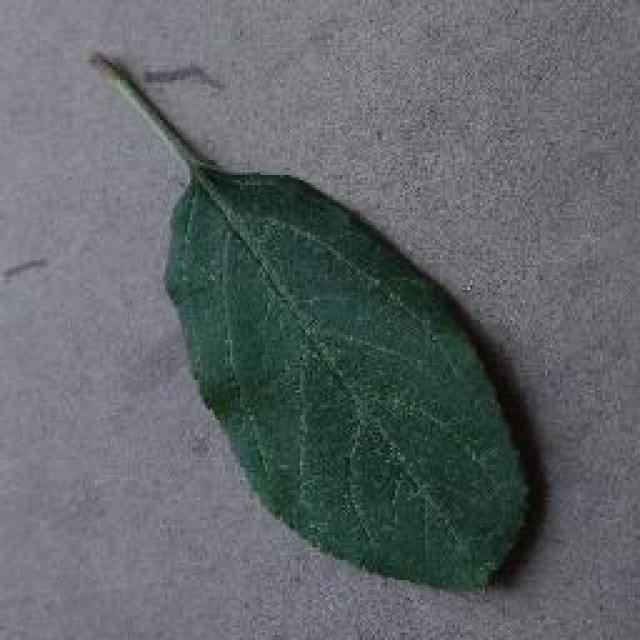apple healthy: (85, 45, 543, 597)
